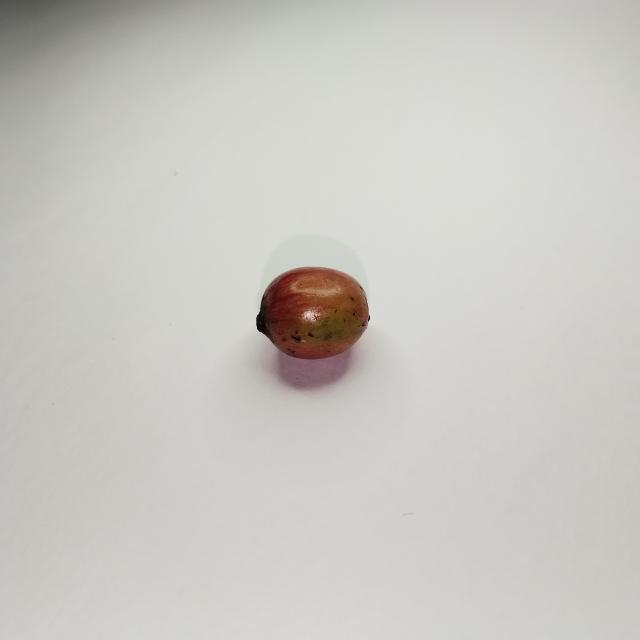Sano: (256, 266, 369, 359)
